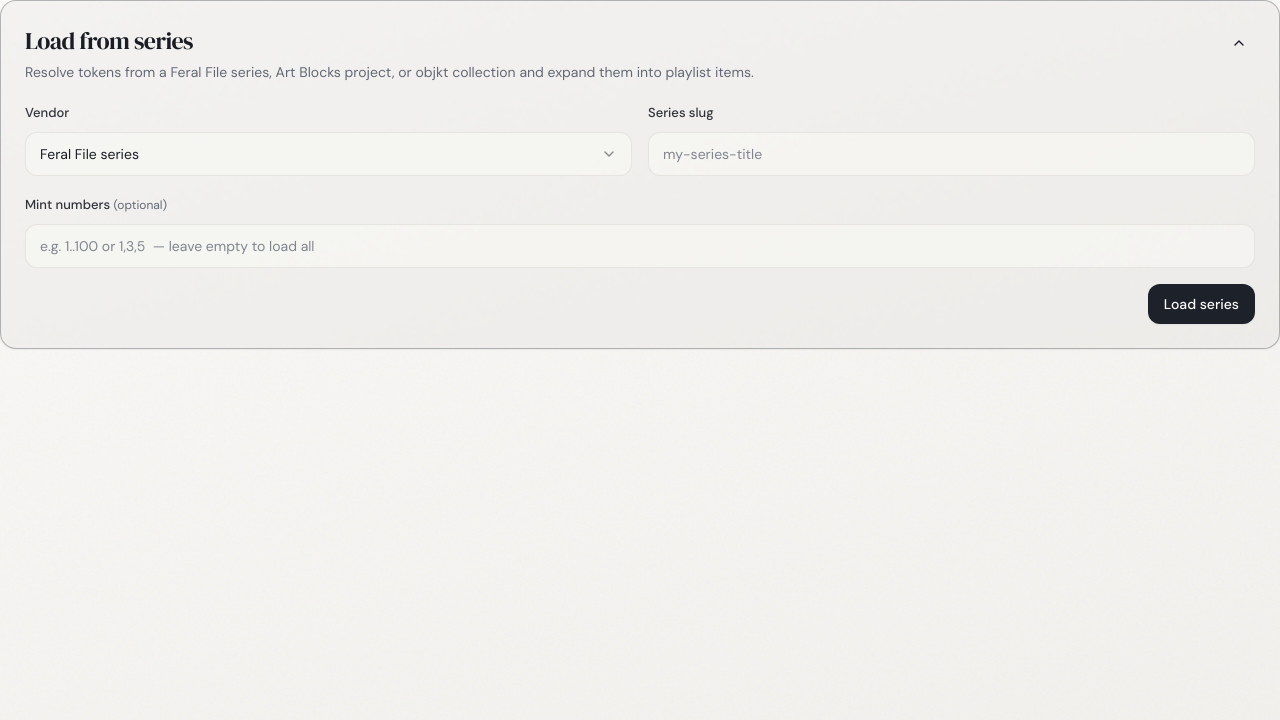
Test: SeriesExpander › shows a client-limit warning and "Load first N items" when the load is capped
The width and height of the screenshot is (1280, 720).
In the field labelled "Series slug": (952, 154) x1=648 y1=132 x2=1255 y2=176, type "my-series"
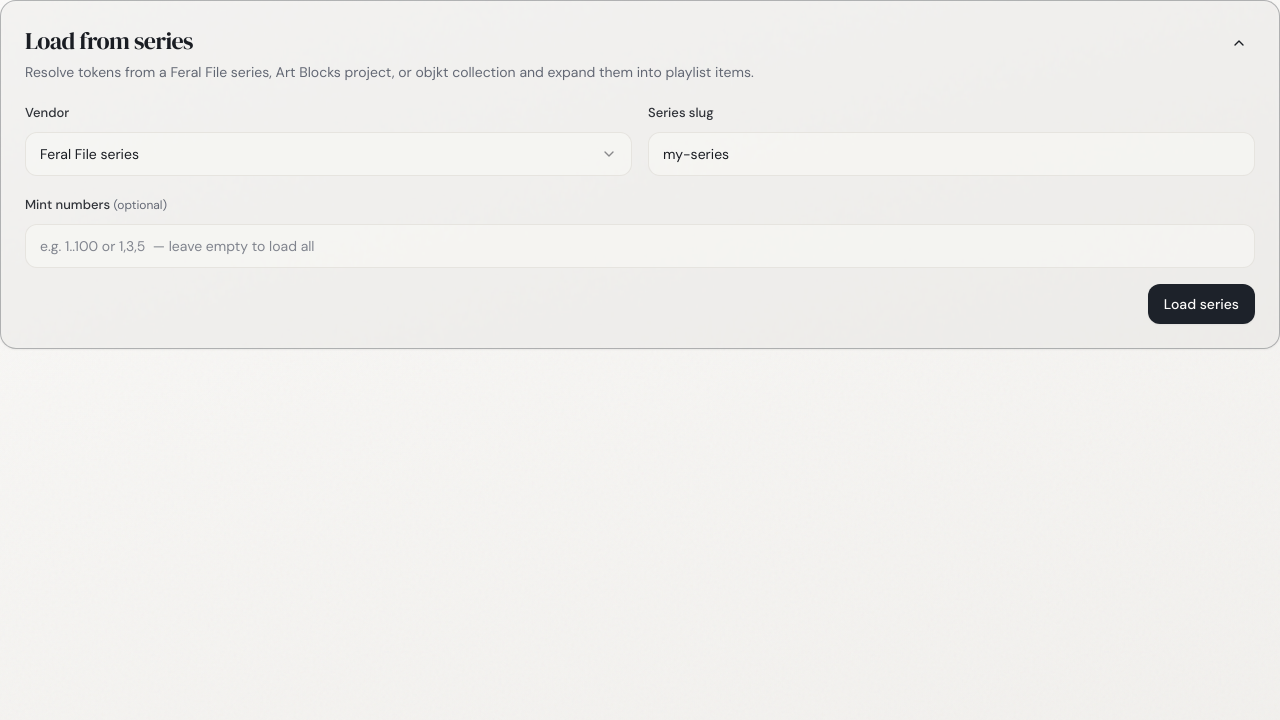
Click the button "Load series": (1201, 304) x1=1148 y1=284 x2=1255 y2=324
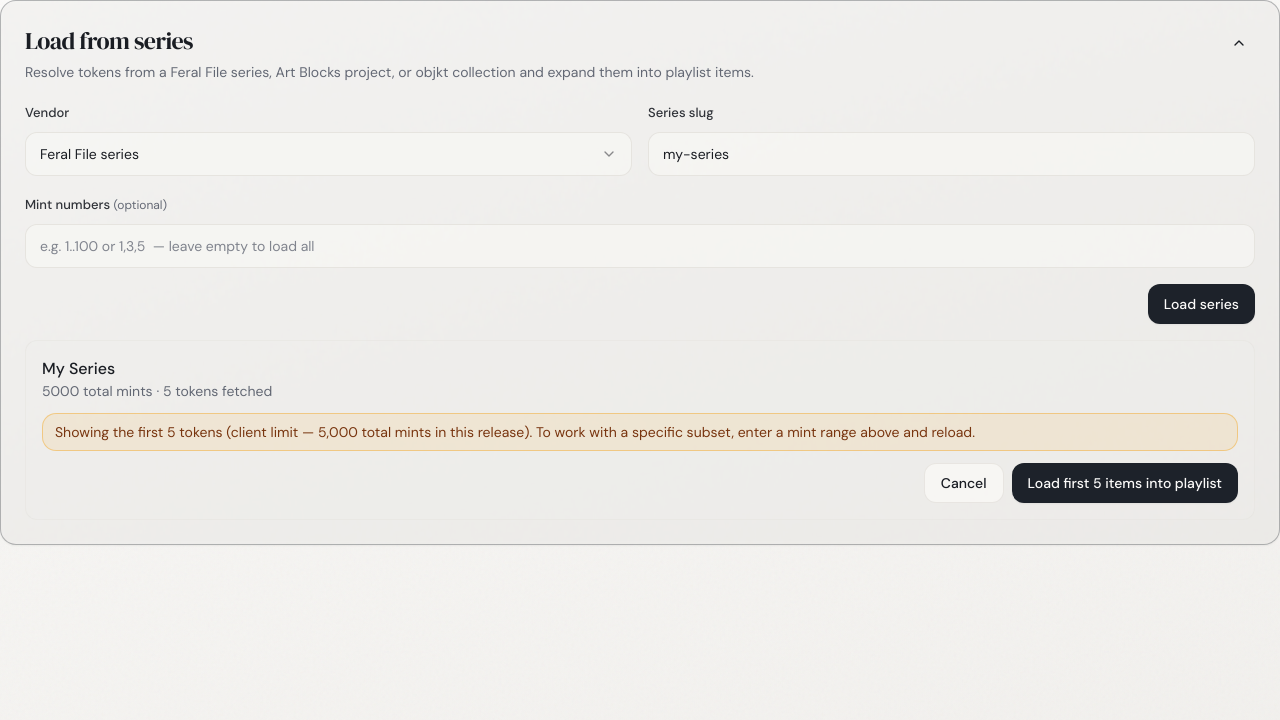
Now the text "client limit" is shown, box x1=176 y1=423 x2=298 y2=441
Now the button "Load first 5 items into playlist" is shown, box x1=1012 y1=463 x2=1238 y2=503
